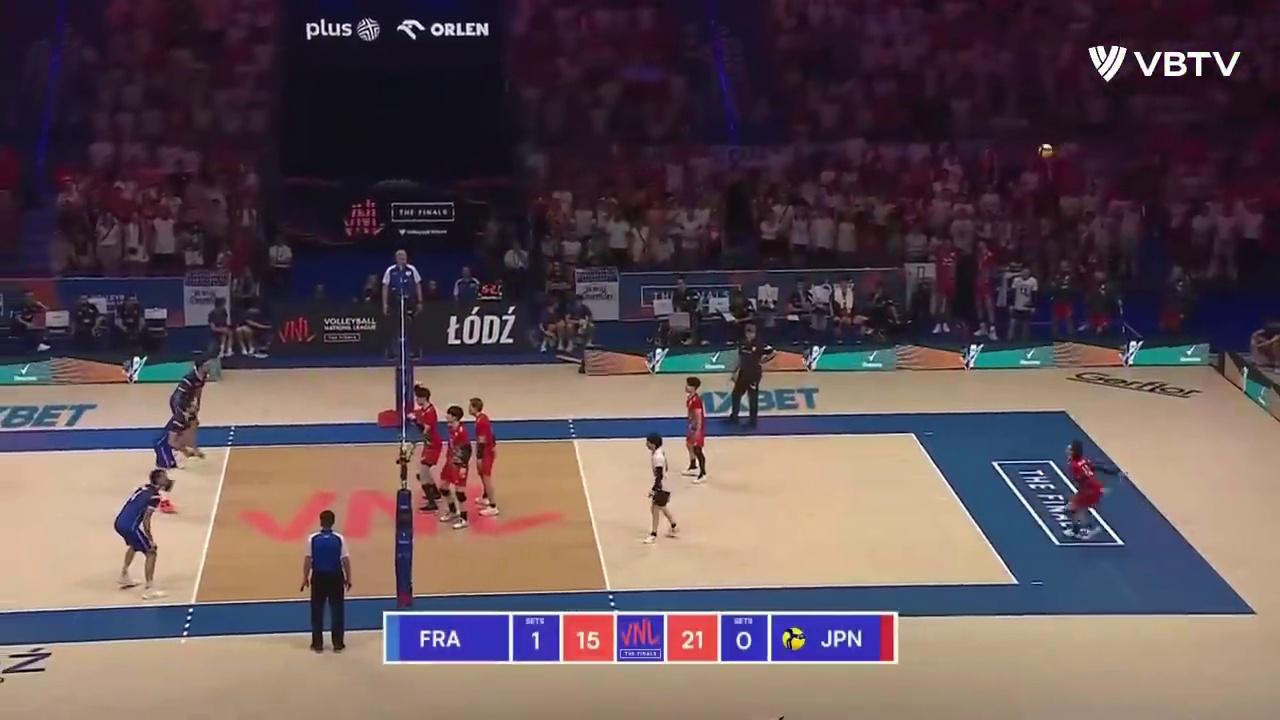ball: (1039, 143, 1054, 159)
